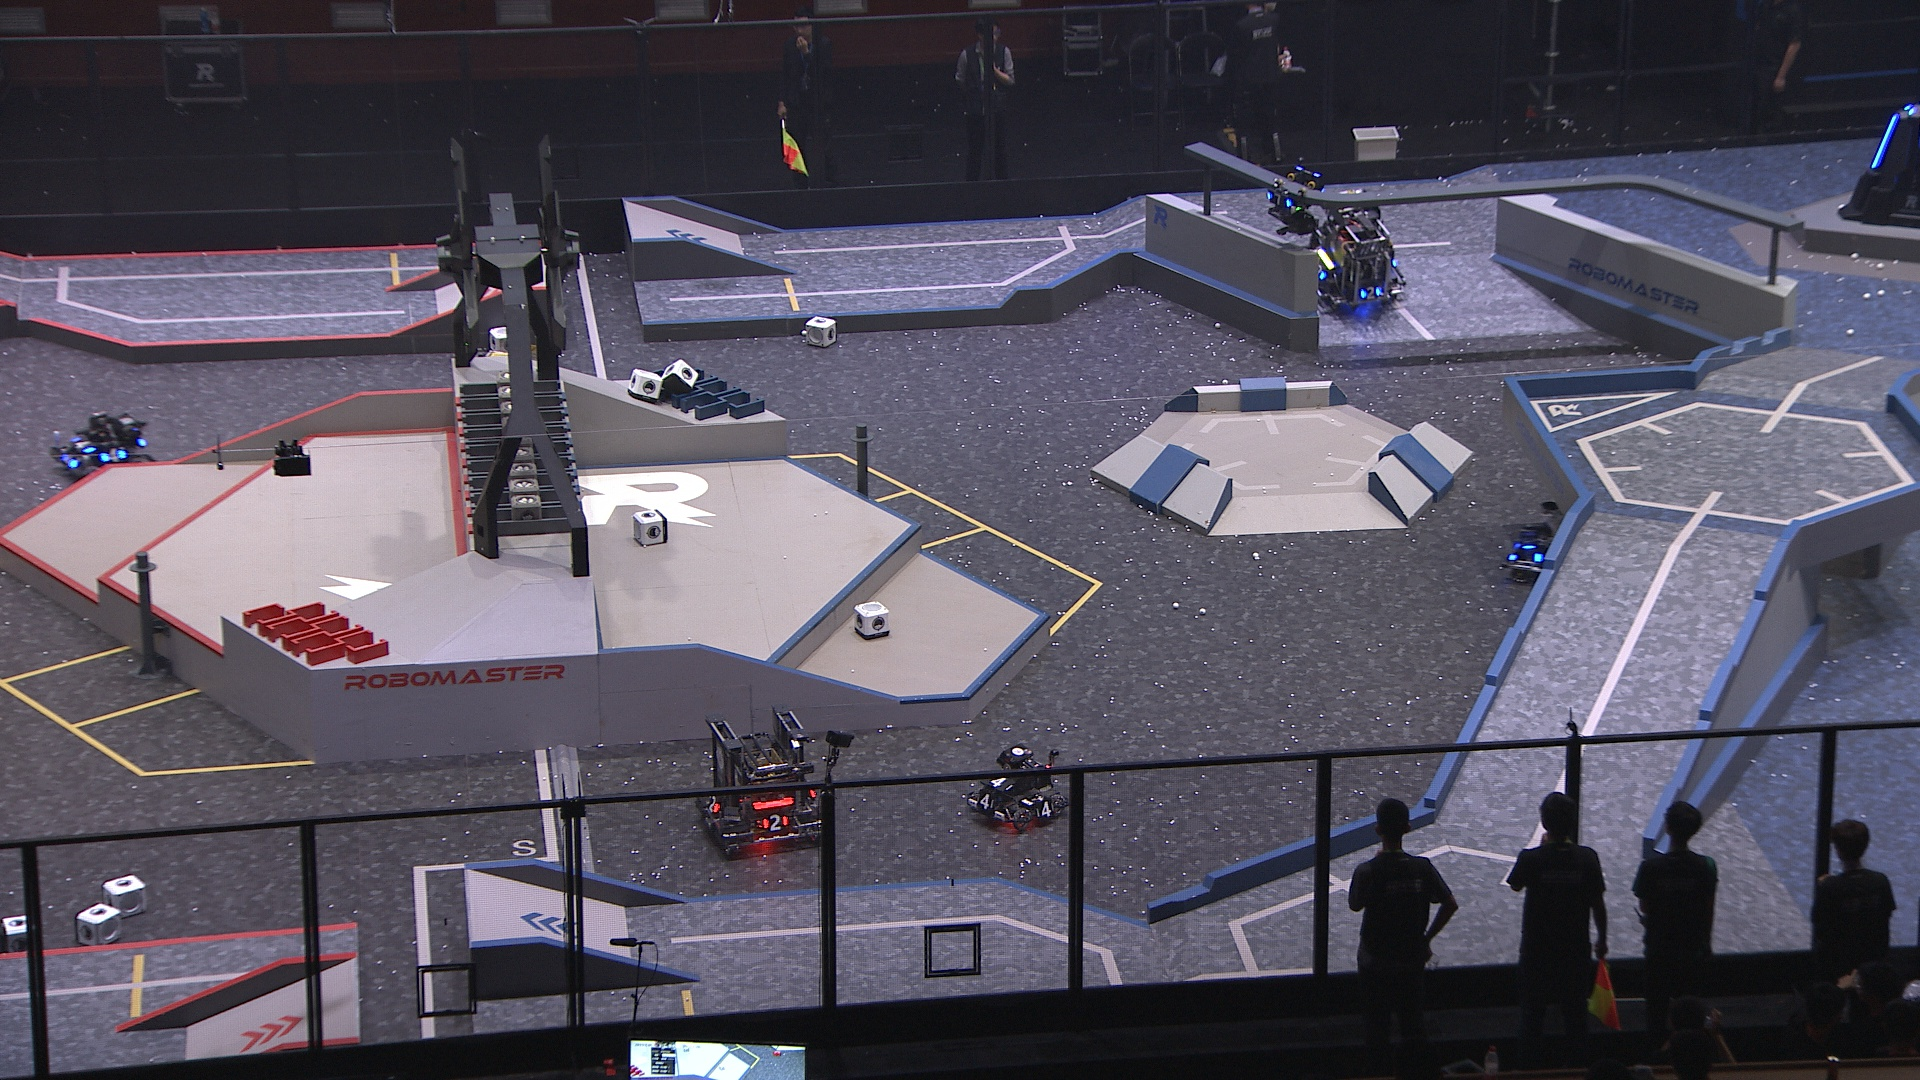armor: (1869, 105, 1904, 173), (756, 814, 790, 832), (69, 436, 96, 456), (1033, 799, 1058, 820), (1266, 191, 1292, 210), (98, 447, 128, 462), (55, 446, 74, 469), (986, 775, 1015, 790), (1518, 531, 1539, 551), (705, 793, 721, 818), (975, 793, 996, 811), (1360, 284, 1381, 301), (1899, 102, 1920, 119)
base: (1836, 98, 1920, 229)
car: (692, 708, 832, 855), (1302, 186, 1411, 322), (1503, 479, 1611, 585), (963, 744, 1060, 839), (44, 409, 149, 477)
watcher: (1262, 150, 1333, 235)
